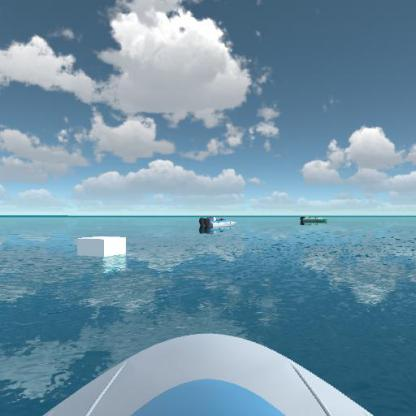usv0: (298, 209, 328, 228)
usv1: (196, 214, 236, 233)
